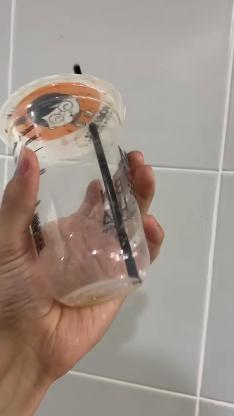Plastic Cup: (6, 75, 152, 310)
